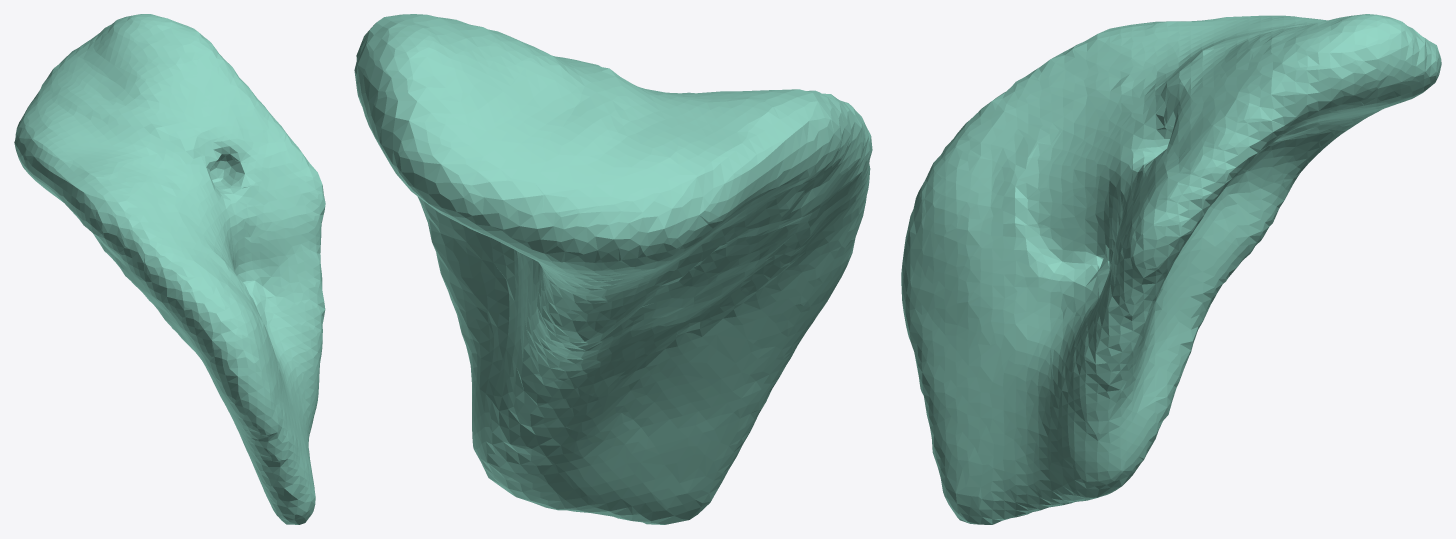
File: ours.glb
The picture shows the model from 3 angles, left to right: view 1: azimuth 30°, elevation 25°; view 2: azimuth 150°, elevation 25°; view 3: azimuth 270°, elevation 25°; orthographic projection. The views are drawn at different scales.
Parts seen in each view (by area): view 1: world; view 2: world; view 3: world.
Boxes of the visible parts, x1,y1,x2,y2 form: world: (14, 14, 325, 524); world: (354, 14, 872, 524); world: (901, 14, 1441, 524).
Size of the model in its own units: 0.4856 by 0.746 by 0.7239.
